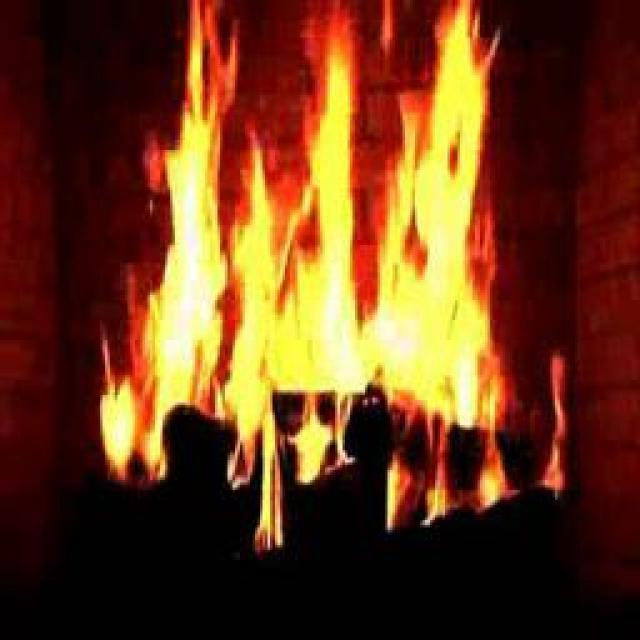Fire: (109, 41, 496, 477)
